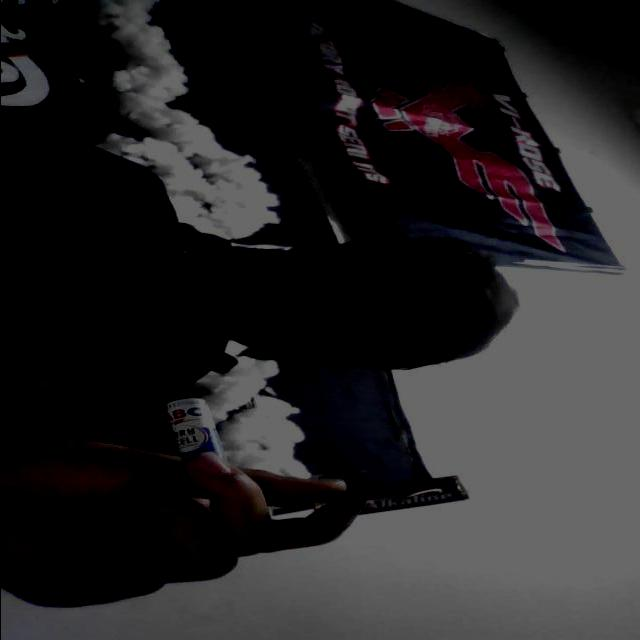AA: (293, 464, 484, 526)
